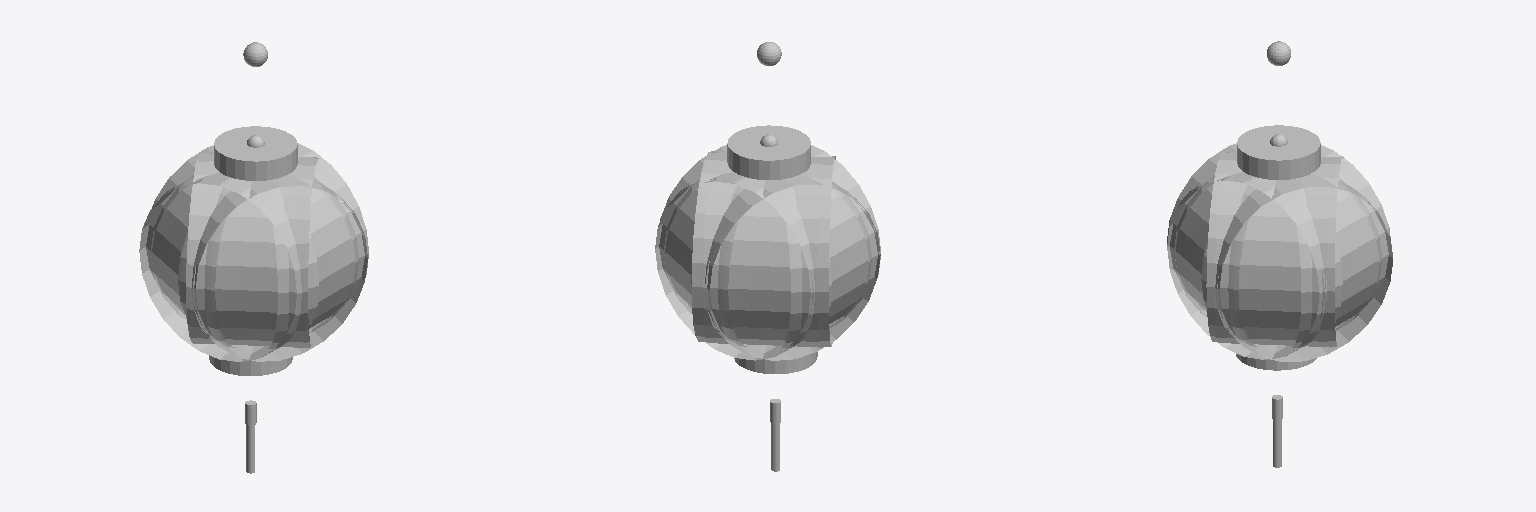
The model's file is lantern.003.obj.
The picture shows the model from 3 angles: view 1: azimuth 30°, elevation 25°; view 2: azimuth 150°, elevation 25°; view 3: azimuth 270°, elevation 25°; orthographic projection.
Parts seen in each view (by area): view 1: lantern.003_3d-model.003; view 2: lantern.003_3d-model.003; view 3: lantern.003_3d-model.003.
Boxes of the visible parts, x1=… form: lantern.003_3d-model.003: x1=139, y1=42, x2=368, y2=473; lantern.003_3d-model.003: x1=655, y1=42, x2=880, y2=471; lantern.003_3d-model.003: x1=1167, y1=41, x2=1392, y2=467.
Size of the model in its own units: 0.2315 by 0.5187 by 0.2502.